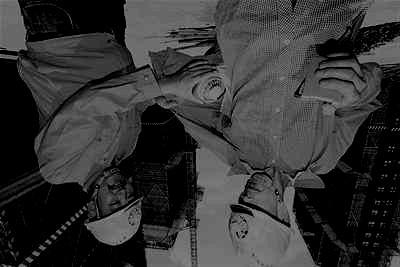helmet: (227, 173, 296, 267), (84, 171, 146, 246)
